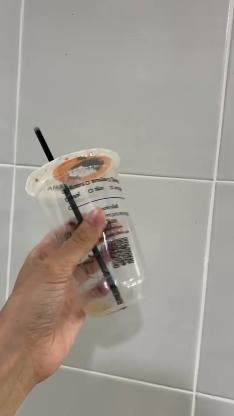Plastic Cup: (26, 148, 155, 318)
